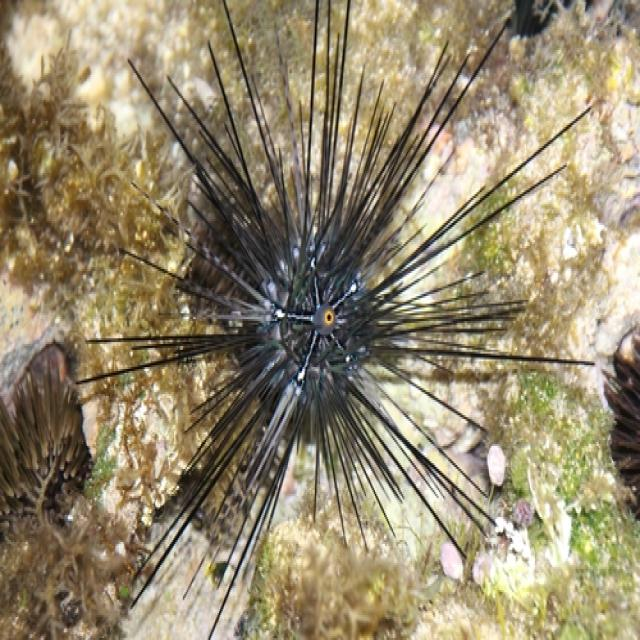Urchin: (77, 9, 596, 618)
